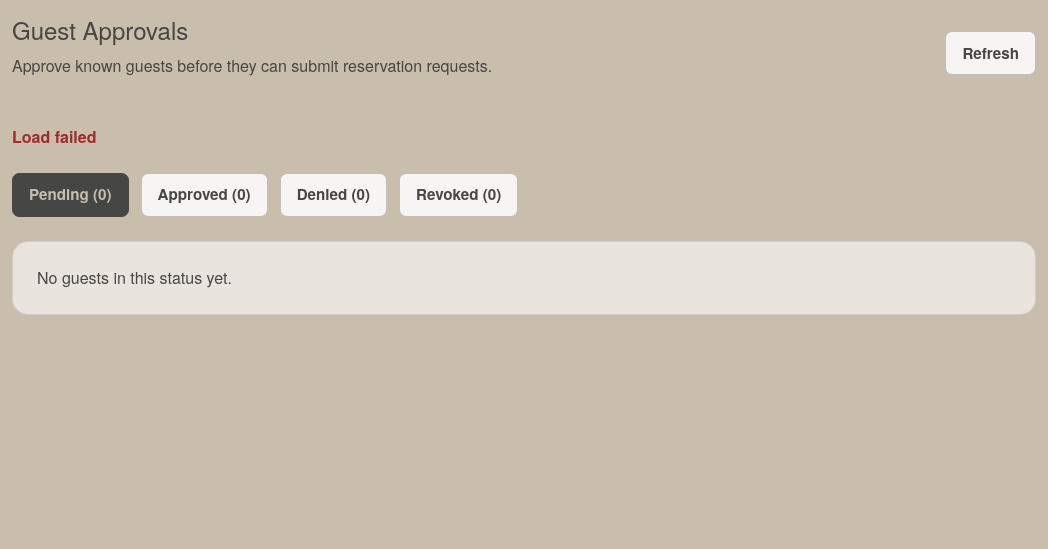
Test case: Guests › shows API errors from loading and updating
Check: the text "Load failed" is shown, box [12,125,96,148]
Click the button "Refresh".
click(991, 53)  # box [945,31,1036,75]
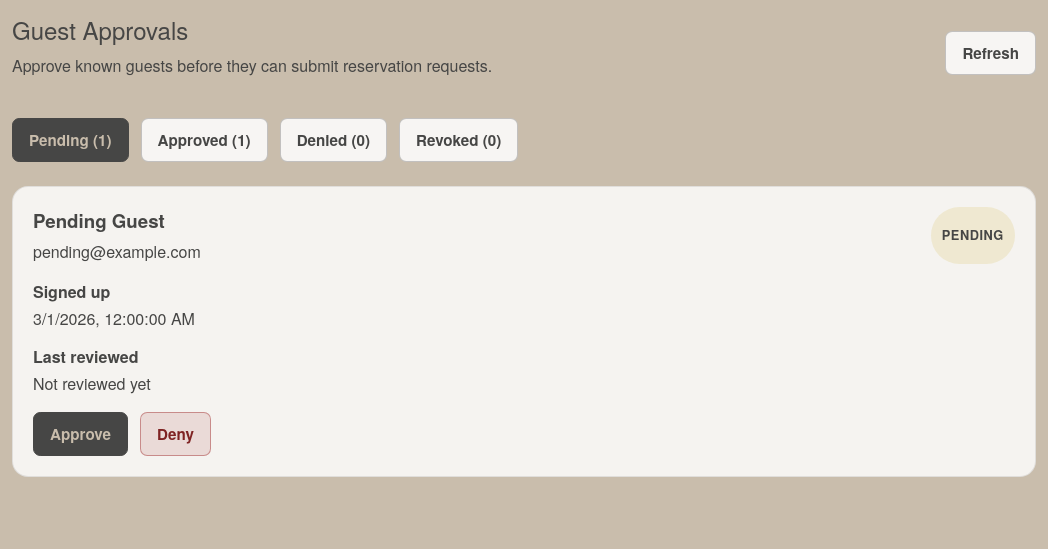
Check: the heading "Pending Guest" is shown, box [33,207,165,234]
Click the button "Approve".
click(80, 434)  # box [33,412,128,456]
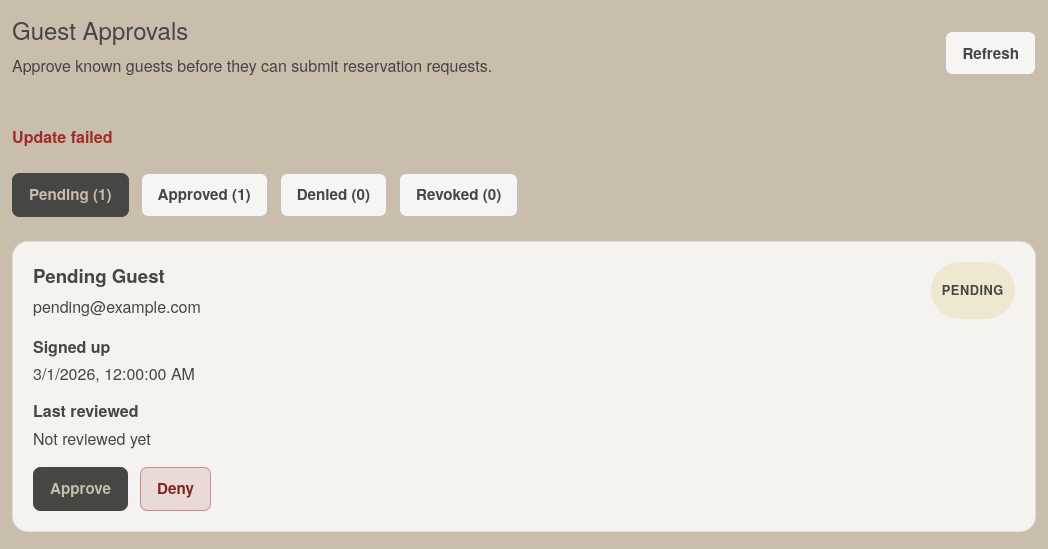
Check: the text "Update failed" is shown, box [12,125,112,148]
